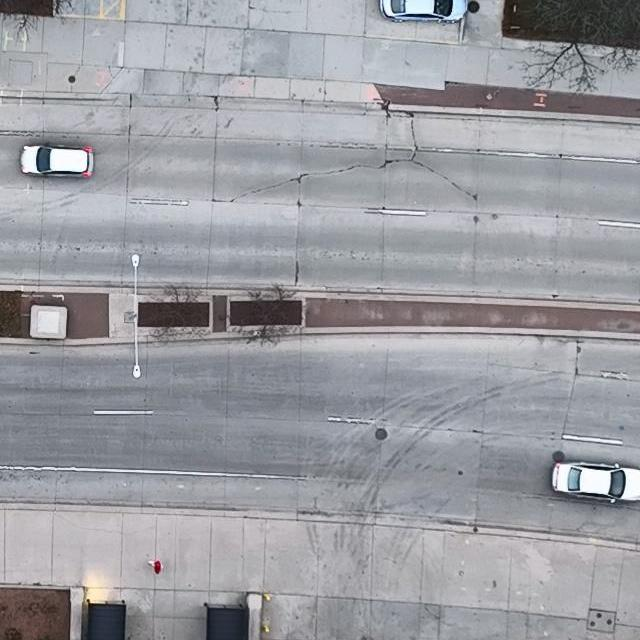car: (553, 461, 640, 504), (19, 143, 94, 179), (379, 0, 468, 22)
